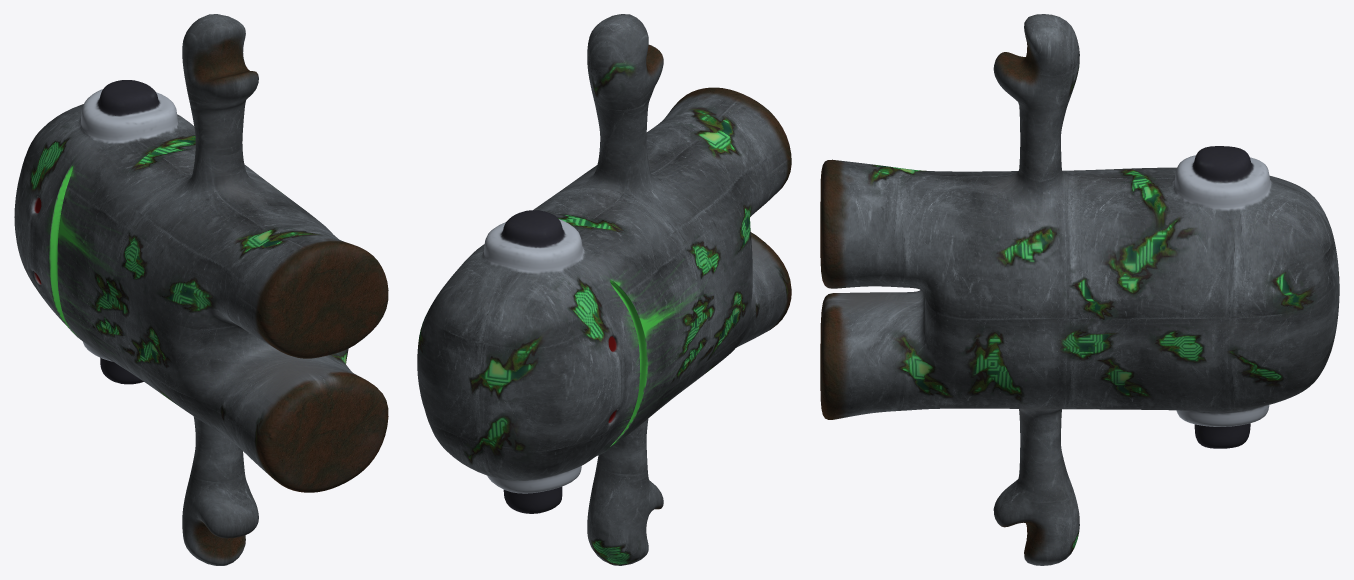
File: enemigo1.obj
3 renders of one model, left to right at view 1: azimuth 30°, elevation 25°; view 2: azimuth 150°, elevation 25°; view 3: azimuth 270°, elevation 25°, orthographic.
Visible parts, largest first — view 1: enemigo1:pCube3; view 2: enemigo1:pCube3; view 3: enemigo1:pCube3.
Part boxes in pixels (<box>): enemigo1:pCube3: <box>14,14,388,565</box>; enemigo1:pCube3: <box>417,14,791,565</box>; enemigo1:pCube3: <box>820,14,1339,565</box>.
Bounding box in the file's own units: 0.6686 × 1.85 × 1.59.
Materials: 1 (1 with a texture image).
